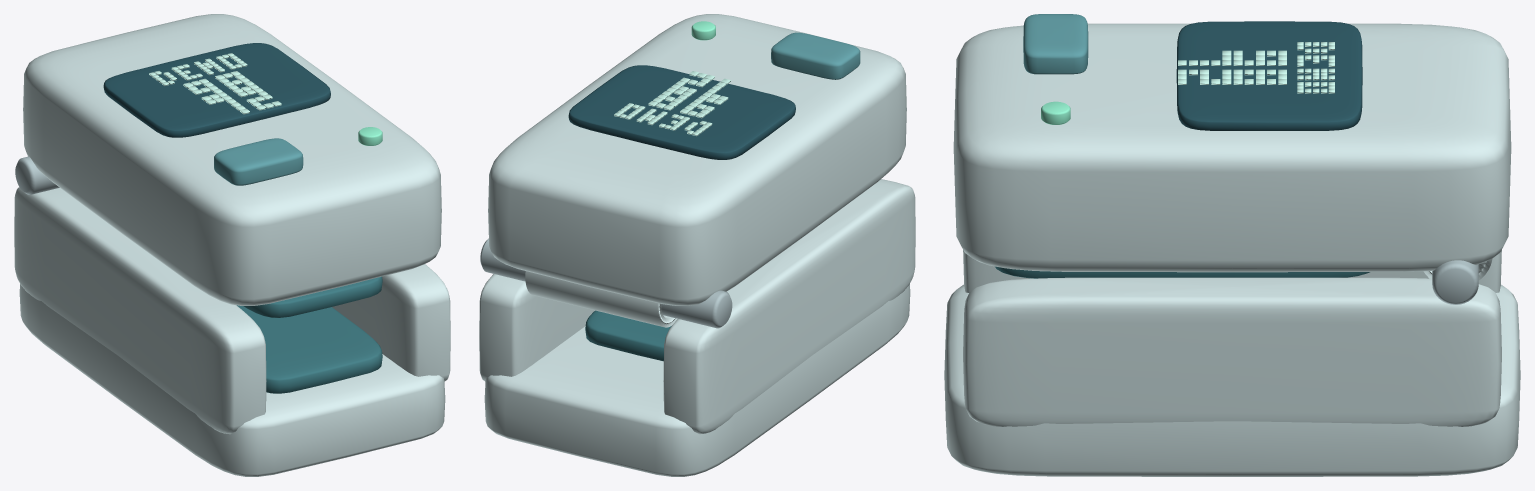
File: pulse_oximeter.glb
3 renders of one model, left to right at view 1: azimuth 30°, elevation 25°; view 2: azimuth 150°, elevation 25°; view 3: azimuth 270°, elevation 25°, orthographic. The views are drawn at different scales.
Visible parts, largest first — view 1: Upper_Shell, Lower_Left, Lower_Base, Demo_Screen, Lower_Right, Finger_Pad, Power_Button, Upper_Pad, Clip_Axle; view 2: Upper_Shell, Lower_Left, Lower_Base, Demo_Screen, Lower_Right, Clip_Hinge_Sleeve, Power_Button, Finger_Pad, Clip_Axle; view 3: Upper_Shell, Lower_Right, Lower_Base, Demo_Screen, Power_Button, Upper_Pad, Lower_Left, Clip_Axle, Power_Indicator.
Part boxes in pixels (x1,y1,x2,y2): Upper_Shell: [23, 14, 441, 305]; Lower_Left: [14, 187, 266, 434]; Lower_Base: [19, 284, 445, 476]; Demo_Screen: [103, 43, 330, 137]; Lower_Right: [332, 264, 450, 381]; Finger_Pad: [237, 305, 382, 393]; Power_Button: [214, 138, 303, 185]; Upper_Pad: [243, 276, 382, 317]; Clip_Axle: [15, 156, 59, 194]; Upper_Shell: [488, 14, 906, 305]; Lower_Left: [663, 179, 915, 434]; Lower_Base: [484, 284, 910, 476]; Demo_Screen: [568, 65, 795, 159]; Lower_Right: [479, 274, 594, 381]; Clip_Hinge_Sleeve: [525, 271, 677, 327]; Power_Button: [771, 32, 860, 79]; Finger_Pad: [585, 310, 671, 361]; Clip_Axle: [480, 238, 732, 328]; Upper_Shell: [953, 23, 1511, 272]; Lower_Right: [963, 277, 1501, 426]; Lower_Base: [944, 284, 1520, 476]; Demo_Screen: [1176, 21, 1362, 130]; Power_Button: [1023, 14, 1088, 74]; Upper_Pad: [995, 266, 1369, 278]; Lower_Left: [963, 250, 1501, 292]; Clip_Axle: [1432, 260, 1478, 304]; Power_Indicator: [1041, 101, 1070, 124].
Size of the model in its own units: 0.036 by 0.0425 by 0.062.
